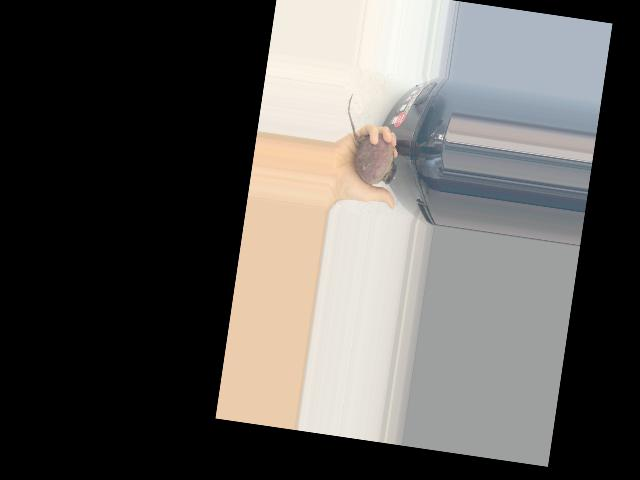beet: (337, 92, 406, 187)
